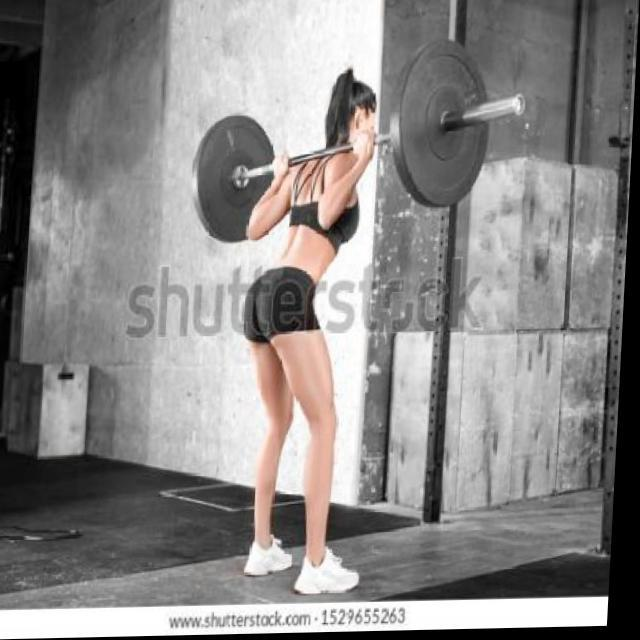barbell: (390, 41, 531, 215)
